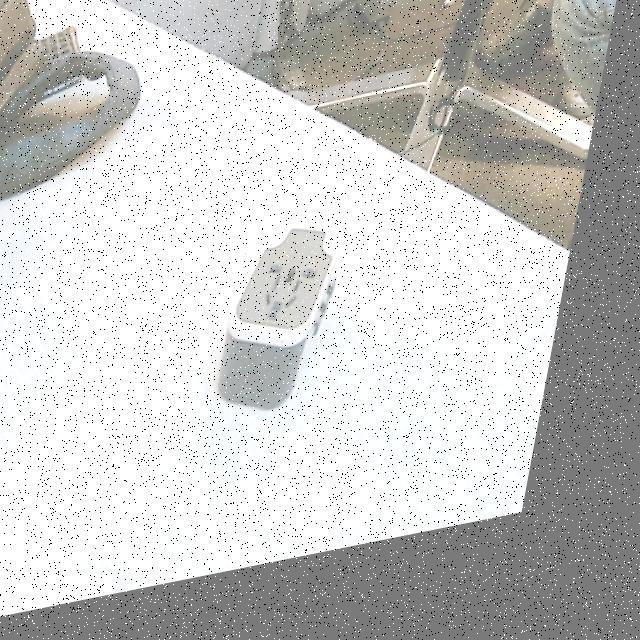adapter: (226, 227, 360, 434)
